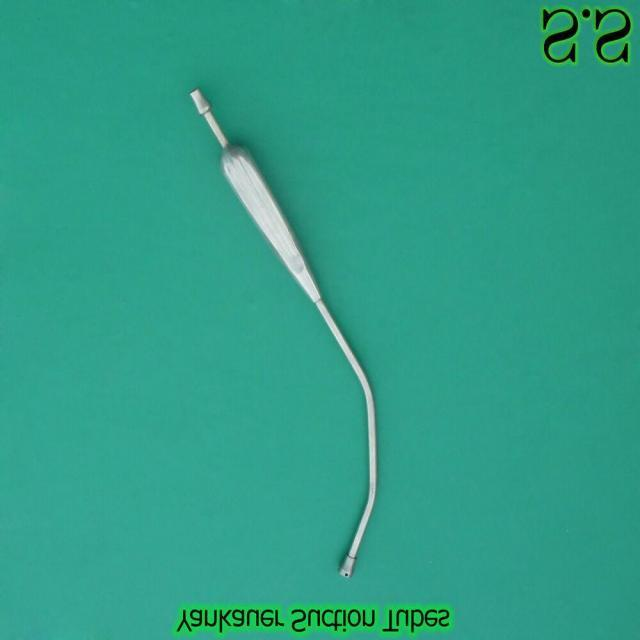Yankauer: (186, 82, 384, 588)
